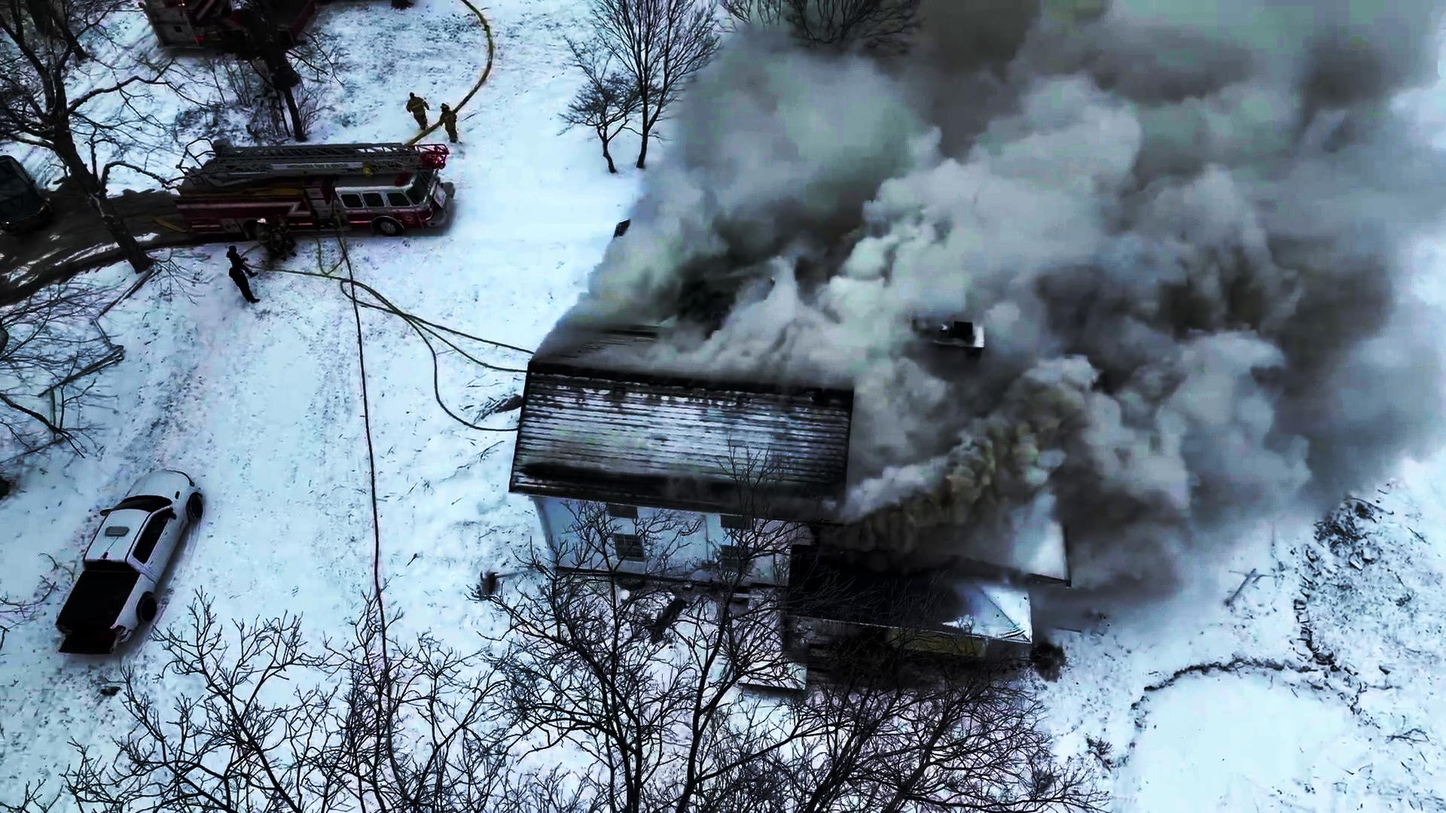smoke: (725, 104, 1392, 353)
